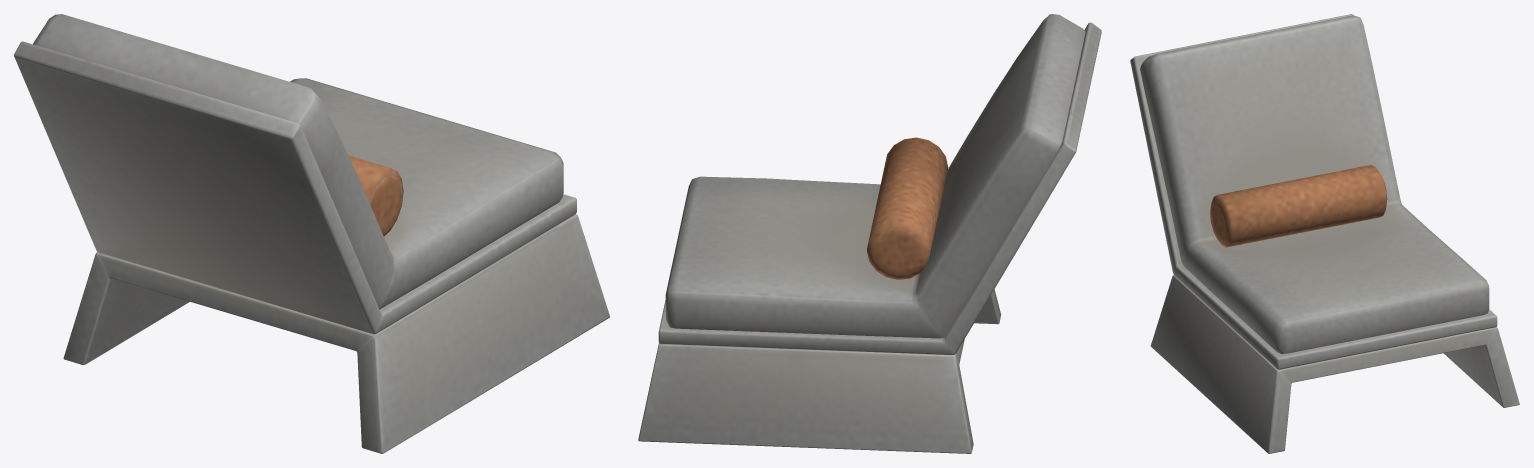
File: EE_SingleSeater_01.gltf
3 views of the same model, side by side, from view 1: azimuth 30°, elevation 25°; view 2: azimuth 150°, elevation 25°; view 3: azimuth 270°, elevation 25° (orthographic). The views are drawn at different scales.
Parts seen in each view (by area): view 1: EE_SingleSeater_01.001; view 2: EE_SingleSeater_01.001; view 3: EE_SingleSeater_01.001.
Part boxes in pixels (bbox=[...]): EE_SingleSeater_01.001: bbox=[14, 14, 609, 453]; EE_SingleSeater_01.001: bbox=[638, 14, 1101, 453]; EE_SingleSeater_01.001: bbox=[1130, 14, 1519, 453].
Size of what is drawn, in the model's own units: 1.46 by 0.9777 by 1.29.
1 material, 1 textured.
